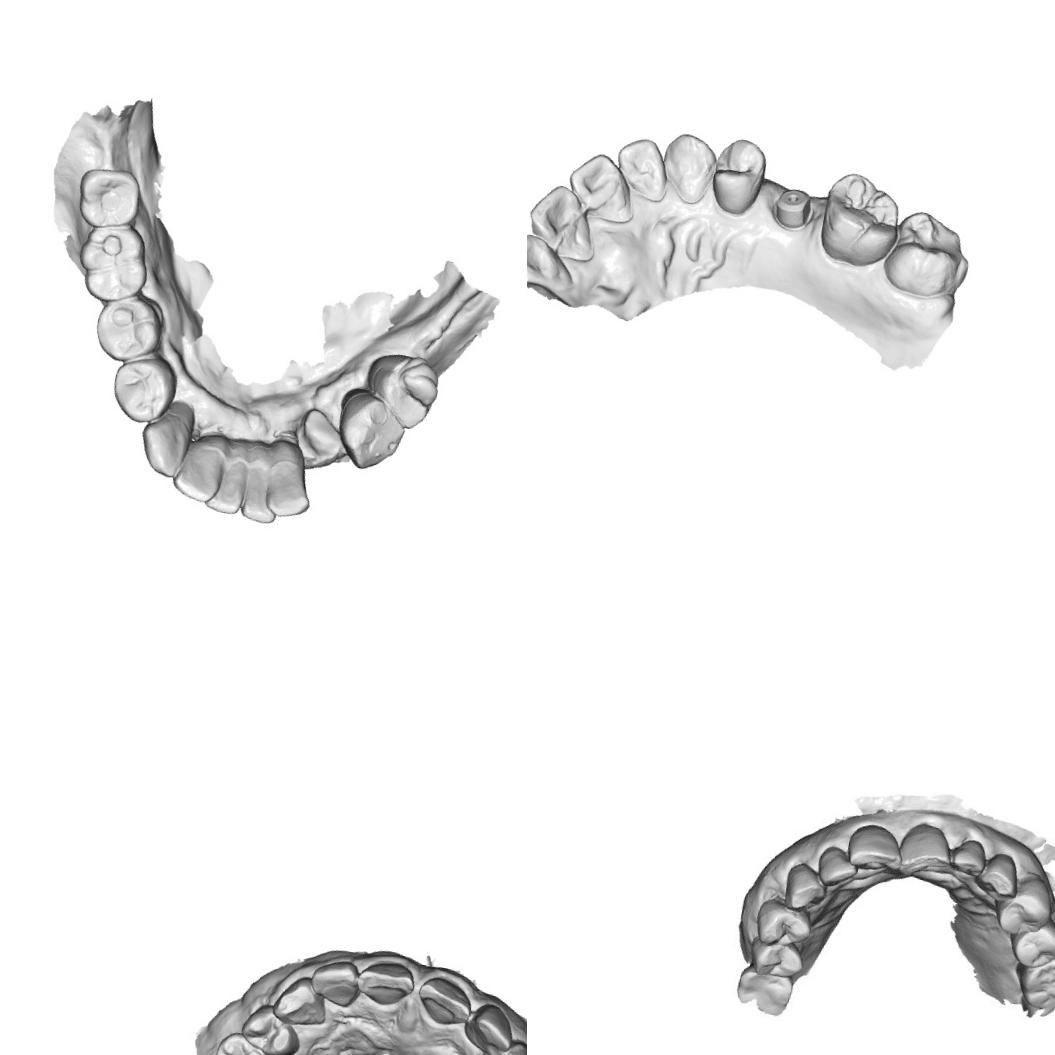canine: (652, 127, 720, 208), (132, 406, 196, 483), (268, 970, 331, 1032), (972, 846, 1025, 902), (779, 858, 829, 916), (469, 1032, 527, 1055)
implant: (766, 182, 818, 234)
incisor: (527, 177, 605, 267), (560, 146, 642, 228), (608, 132, 674, 204), (258, 450, 319, 523), (894, 817, 957, 885), (168, 437, 230, 506), (234, 450, 288, 528), (352, 954, 418, 1012), (844, 820, 910, 876), (413, 971, 476, 1029), (457, 998, 518, 1055), (306, 954, 366, 1010), (204, 450, 253, 516), (810, 842, 861, 892), (943, 833, 993, 881)
molar: (810, 165, 911, 273), (878, 203, 976, 305), (70, 214, 158, 310), (70, 161, 147, 235), (1012, 947, 1055, 1017)
premolar: (354, 345, 444, 436), (327, 384, 412, 478), (87, 286, 172, 370), (105, 349, 180, 430), (704, 132, 771, 221), (989, 869, 1055, 942), (751, 892, 816, 954), (236, 998, 306, 1055), (744, 934, 806, 982), (1006, 916, 1055, 972), (210, 1026, 277, 1055)
